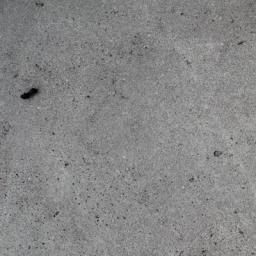FOD: (20, 84, 42, 103)
